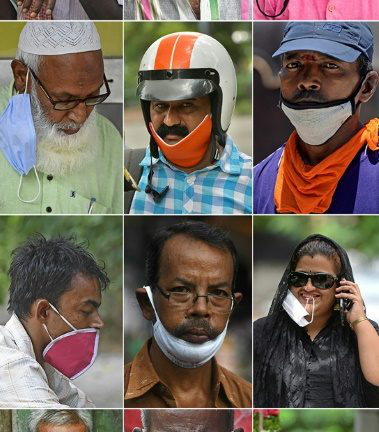mask_weared_incorrect: (8, 47, 113, 182), (135, 245, 244, 372), (276, 49, 379, 147), (18, 272, 107, 375), (278, 250, 351, 328), (144, 95, 217, 165)
